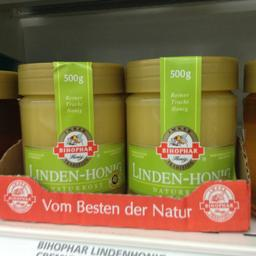honey: (127, 54, 240, 204), (15, 60, 126, 204)
